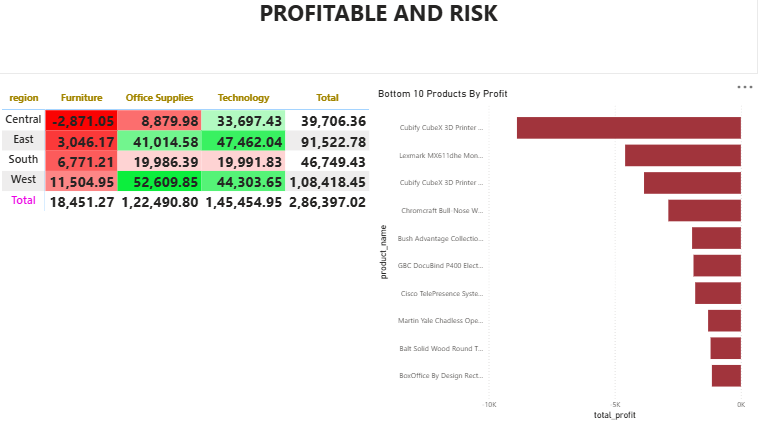

The dashboard page shown, as its layout file describes it:
{"tool":"powerbi","page":{"name":"PROFITABILITY & RISK","canvas":[1280,720],"ordinal":2},"visuals":[{"type":"barChart","title":"Bottom 10 Products By Profit","fields":{"Y":["Fact_Sales.total_profit"],"Category":["DimProduct.product_name"]},"box":[635,156.2,626.6,564.4],"z":1000},{"type":"textbox","box":[3.4,0,1275,134.4],"z":2000},{"type":"pivotTable","fields":{"Values":["Fact_Sales.total_profit"],"Rows":["DimRegion.region"],"Columns":["DimProduct.category"]},"box":[3,156,632,564],"z":2001}]}

Visuals, with their boxes in screenshot pixels (x1, y1, x2, y2), scaled from the page's 1280x720 canvas onto the 758x423 screenshot:
"Bottom 10 Products By Profit" barChart: crop(376, 92, 747, 422)
textbox: crop(2, 0, 757, 79)
pivotTable - Fact_Sales.total_profit x DimRegion.region: crop(2, 92, 376, 422)
